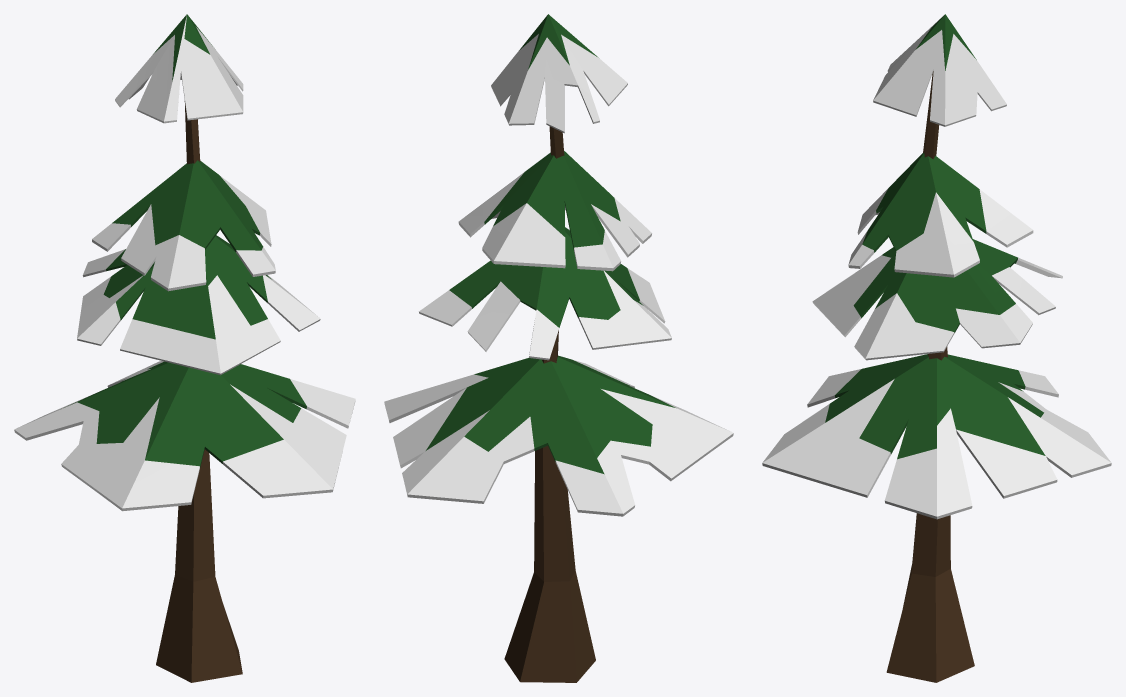
The model's file is TGm_pine1.fbx.
3 renders of one model, left to right at view 1: azimuth 30°, elevation 25°; view 2: azimuth 150°, elevation 25°; view 3: azimuth 270°, elevation 25°, orthographic. The views are drawn at different scales.
Visible parts, largest first — view 1: Pine1_Needles1, Pine1_Needles2, Pine1_Needles3, Pine1_Trunk, Pine1_Needles4; view 2: Pine1_Needles1, Pine1_Needles2, Pine1_Needles3, Pine1_Trunk, Pine1_Needles4; view 3: Pine1_Needles1, Pine1_Needles2, Pine1_Needles3, Pine1_Trunk, Pine1_Needles4.
Part boxes in pixels (bbox=[...]): Pine1_Needles1: bbox=[14, 361, 355, 511]; Pine1_Needles2: bbox=[77, 235, 320, 375]; Pine1_Needles3: bbox=[92, 160, 275, 291]; Pine1_Trunk: bbox=[156, 101, 242, 682]; Pine1_Needles4: bbox=[115, 14, 243, 123]; Pine1_Needles1: bbox=[384, 355, 733, 516]; Pine1_Needles2: bbox=[419, 227, 671, 360]; Pine1_Needles3: bbox=[458, 151, 651, 271]; Pine1_Trunk: bbox=[504, 126, 595, 682]; Pine1_Needles4: bbox=[491, 14, 627, 133]; Pine1_Needles1: bbox=[762, 354, 1111, 519]; Pine1_Needles2: bbox=[812, 239, 1062, 360]; Pine1_Needles3: bbox=[848, 153, 1033, 277]; Pine1_Trunk: bbox=[886, 71, 974, 682]; Pine1_Needles4: bbox=[873, 14, 1006, 126].
Size of the model in its own units: 57 by 122 by 59.93.
